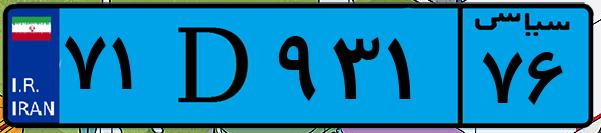1: (385, 28, 445, 110), (110, 28, 158, 98)
3: (330, 28, 385, 110)
6: (525, 38, 570, 115)
7: (57, 26, 110, 100), (475, 38, 525, 113)
9: (270, 28, 330, 110)
D: (158, 12, 270, 120)
